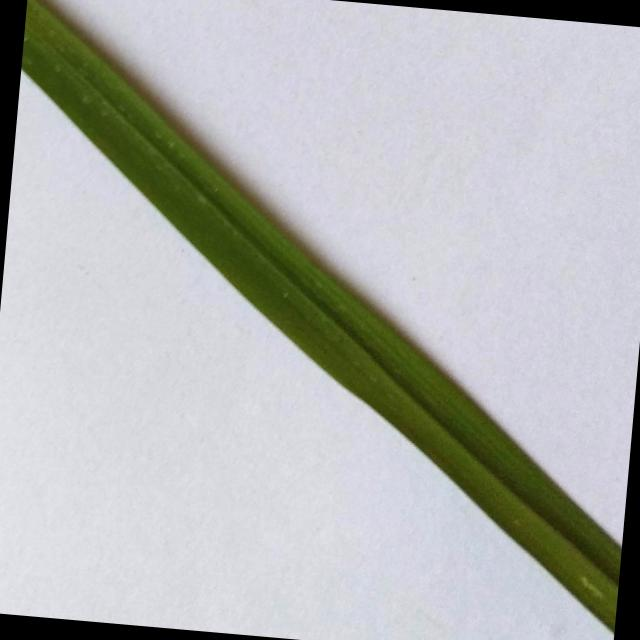Rice_Healthy: (21, 0, 621, 631)
